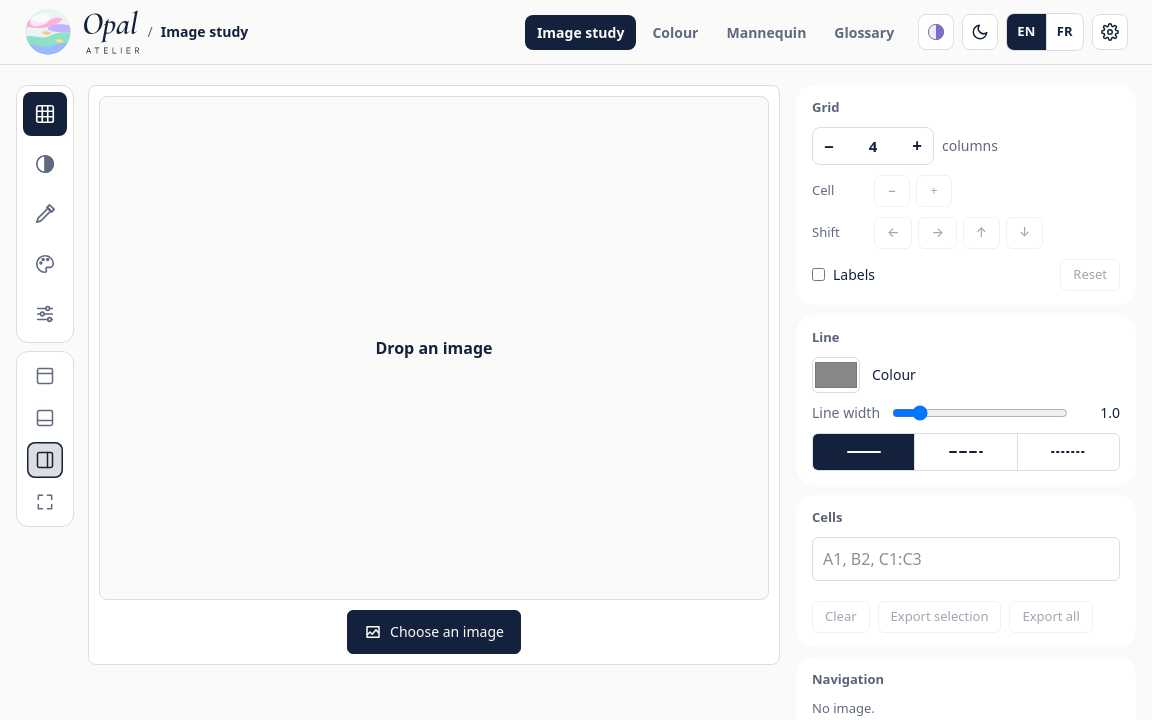
Test case: Image study › grid › remembers the number of columns typed
This screenshot has width=1152, height=720.
Replace the text in the field named "Columns" with "6" at [873, 146], box 845,135 -> 901,157
Then press Enter
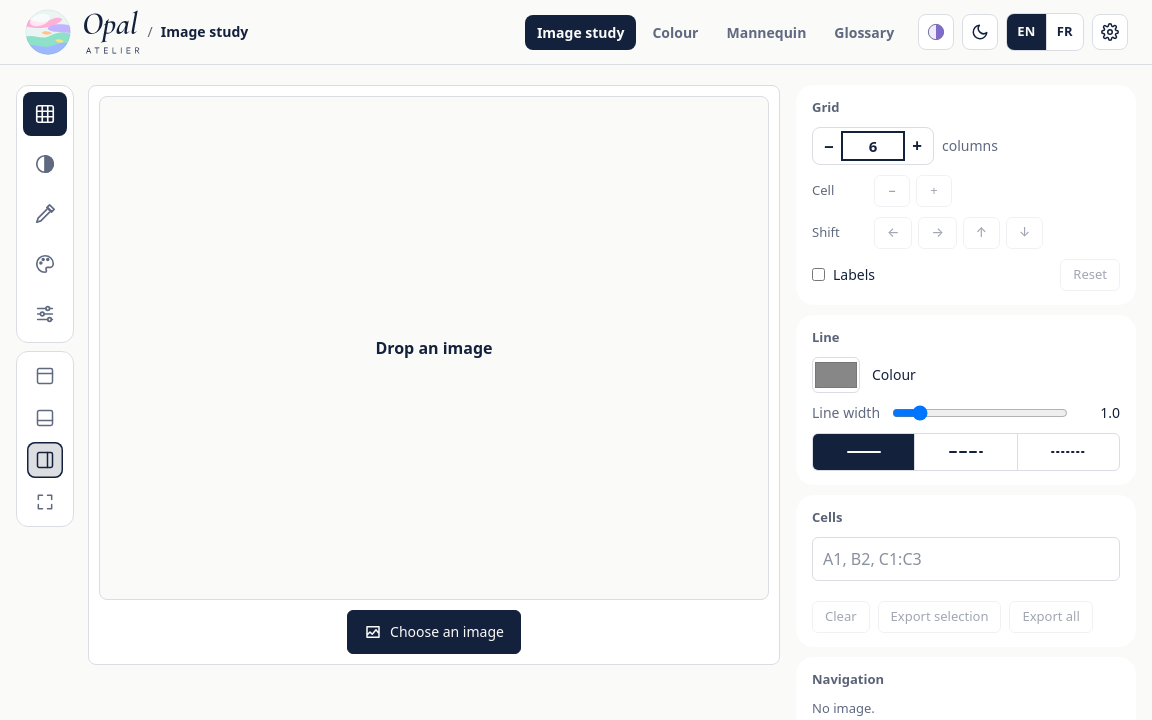
Click the button named "More columns" at [917, 146], box 901,128 -> 933,164
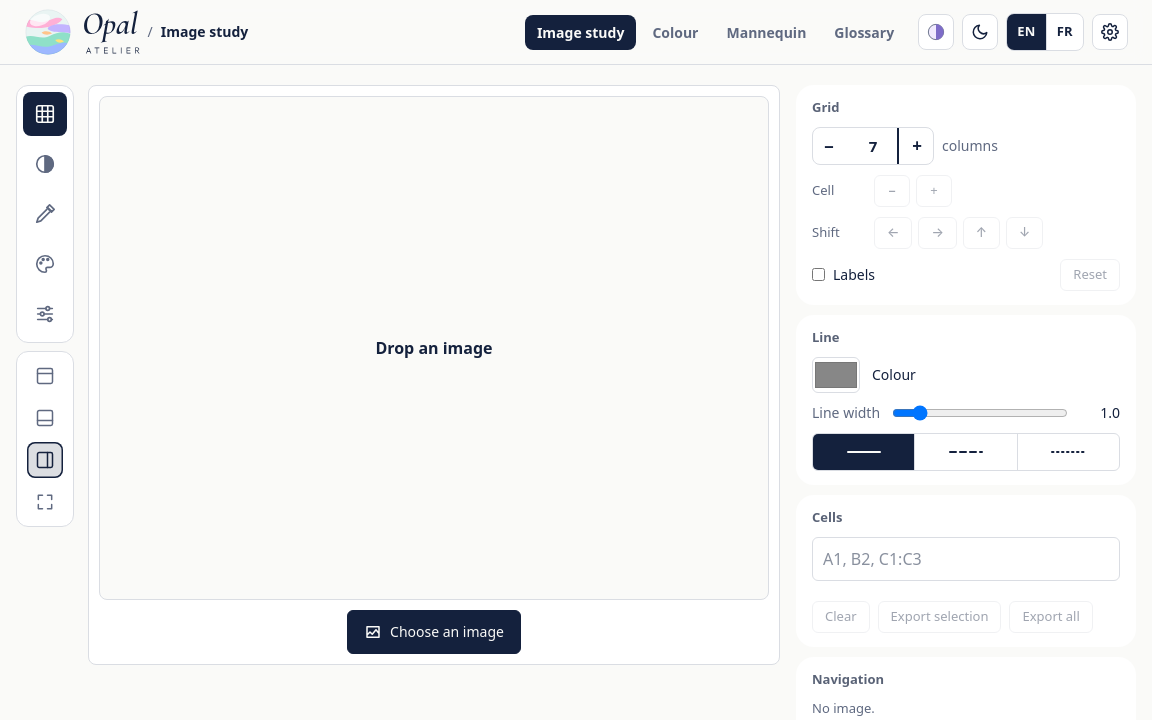
Expected: the field named "Columns" holds "7", 845,135 -> 901,157
